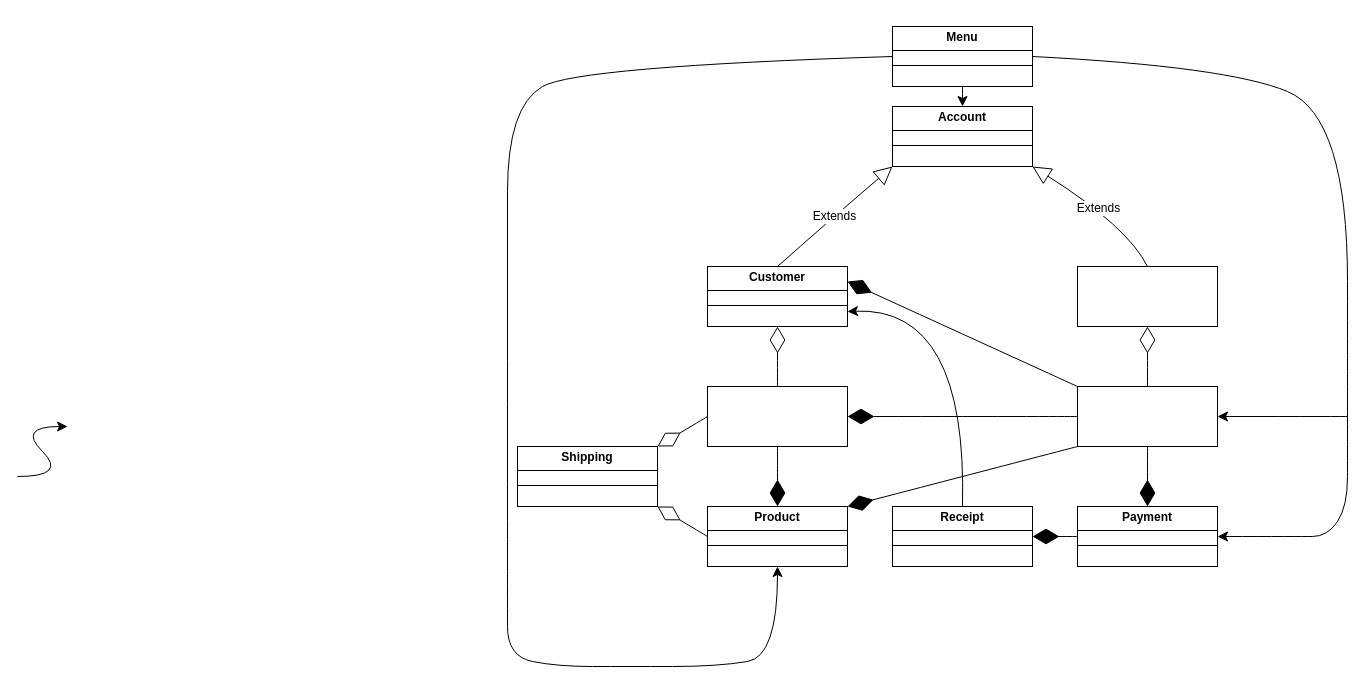
The diagram is 1365 pixels wide and 684 high, and some of its shapes have lost their labels. The centre of each missing label's shape, as x and y in pixels:
"Invoice" goes at pixel 1147 416.
"Order" goes at pixel 777 416.
"Staff" goes at pixel 1147 296.
